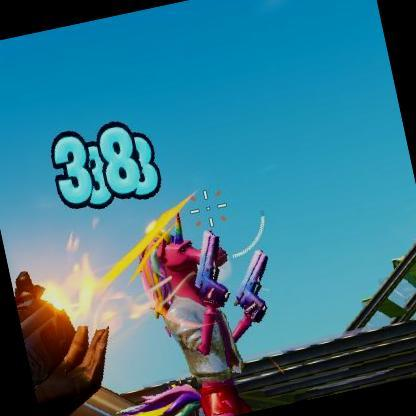person: (143, 218, 265, 416)
